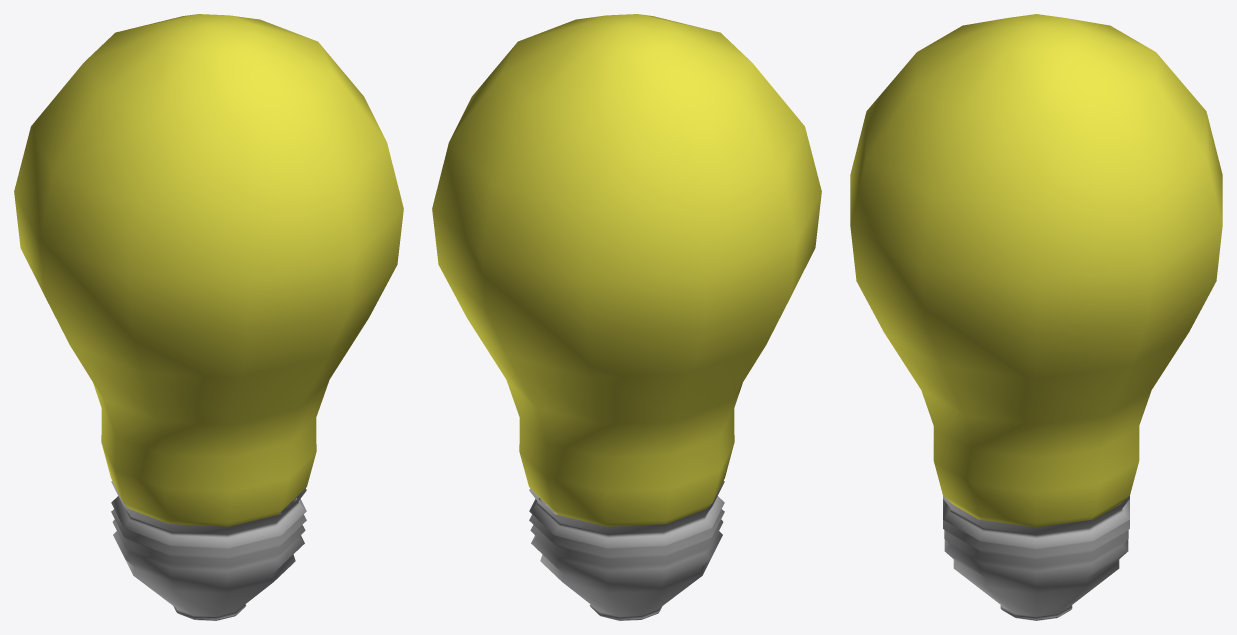
File: lightbulb.fbx
3 views of the same model, side by side, from view 1: azimuth 30°, elevation 25°; view 2: azimuth 150°, elevation 25°; view 3: azimuth 270°, elevation 25° (orthographic).
Parts seen in each view (by area): view 1: polySurface4; view 2: polySurface4; view 3: polySurface4.
Boxes of the visible parts, left/top/right/bottom form: polySurface4: left=14, top=14, right=403, bottom=620; polySurface4: left=432, top=14, right=821, bottom=620; polySurface4: left=850, top=14, right=1222, bottom=620.
Size of the model in its own units: 18 by 29.41 by 17.12.
